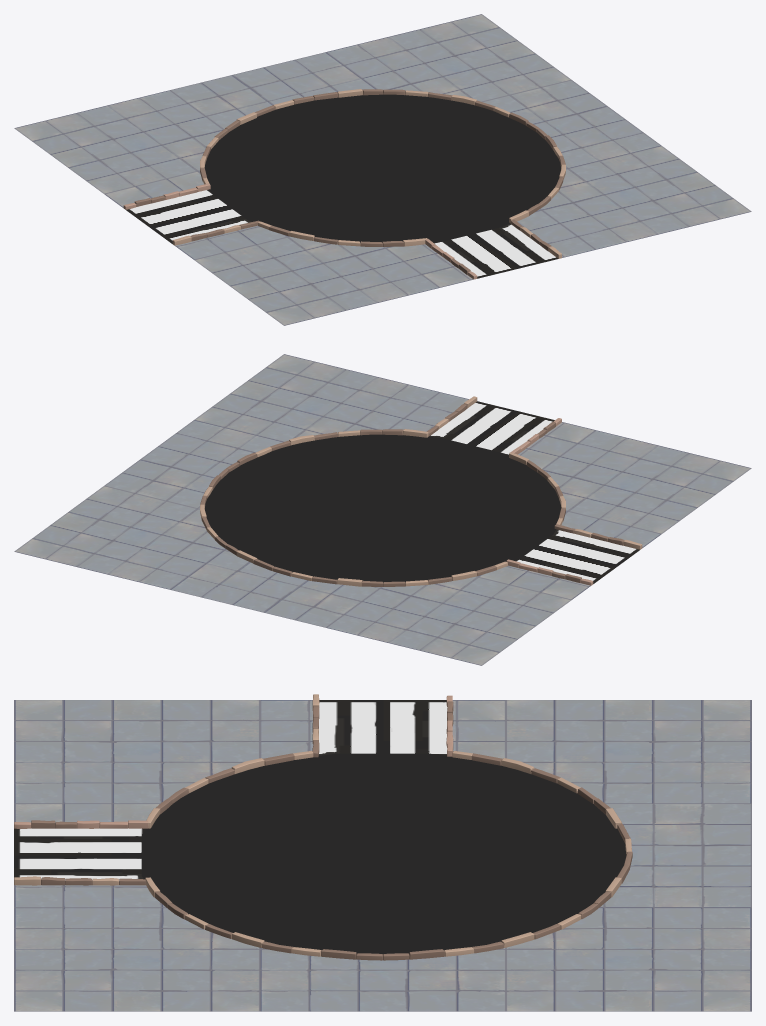
Rendered from CityRoad_roundSquare_2.fbx.
3 views of the same model, one above another, from view 1: azimuth 30°, elevation 25°; view 2: azimuth 150°, elevation 25°; view 3: azimuth 270°, elevation 25° (orthographic). The views are drawn at different scales.
Parts seen in each view (by area): view 1: CityRoad_roundSquare_2_mesh; view 2: CityRoad_roundSquare_2_mesh; view 3: CityRoad_roundSquare_2_mesh.
Part boxes in pixels (bbox=[...]): CityRoad_roundSquare_2_mesh: bbox=[14, 14, 751, 325]; CityRoad_roundSquare_2_mesh: bbox=[14, 354, 751, 665]; CityRoad_roundSquare_2_mesh: bbox=[14, 694, 751, 1011].
Size of the model in its own units: 3000 by 28.55 by 3000.
